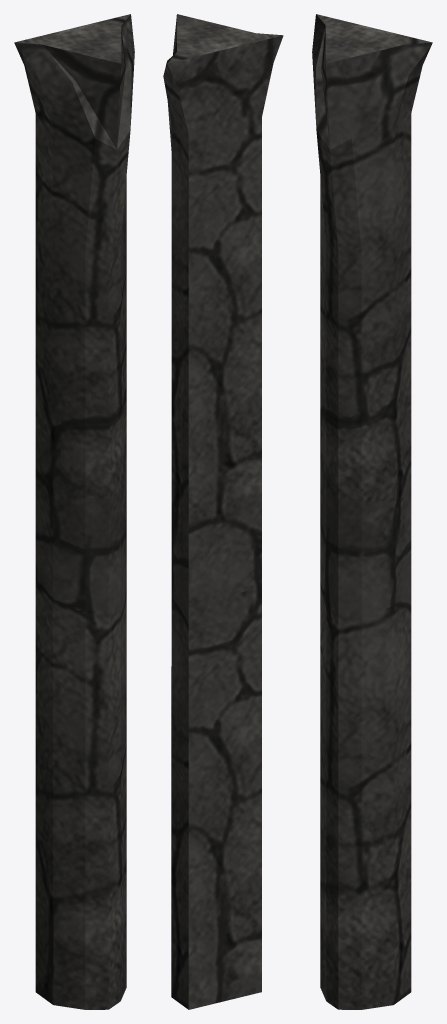
Rendered from stone_pillar_5.fbx.
3 renders of one model, left to right at view 1: azimuth 30°, elevation 25°; view 2: azimuth 210°, elevation 25°; view 3: azimuth 330°, elevation 25°, orthographic.
Parts seen in each view (by area): view 1: ruraltown_house_standard.003; view 2: ruraltown_house_standard.003; view 3: ruraltown_house_standard.003.
Part boxes in pixels (x1,y1,x2,y2): ruraltown_house_standard.003: (14, 14, 134, 1009); ruraltown_house_standard.003: (163, 14, 283, 1009); ruraltown_house_standard.003: (312, 14, 432, 1009).
Size of the model in its own units: 51.18 by 400 by 36.92.
